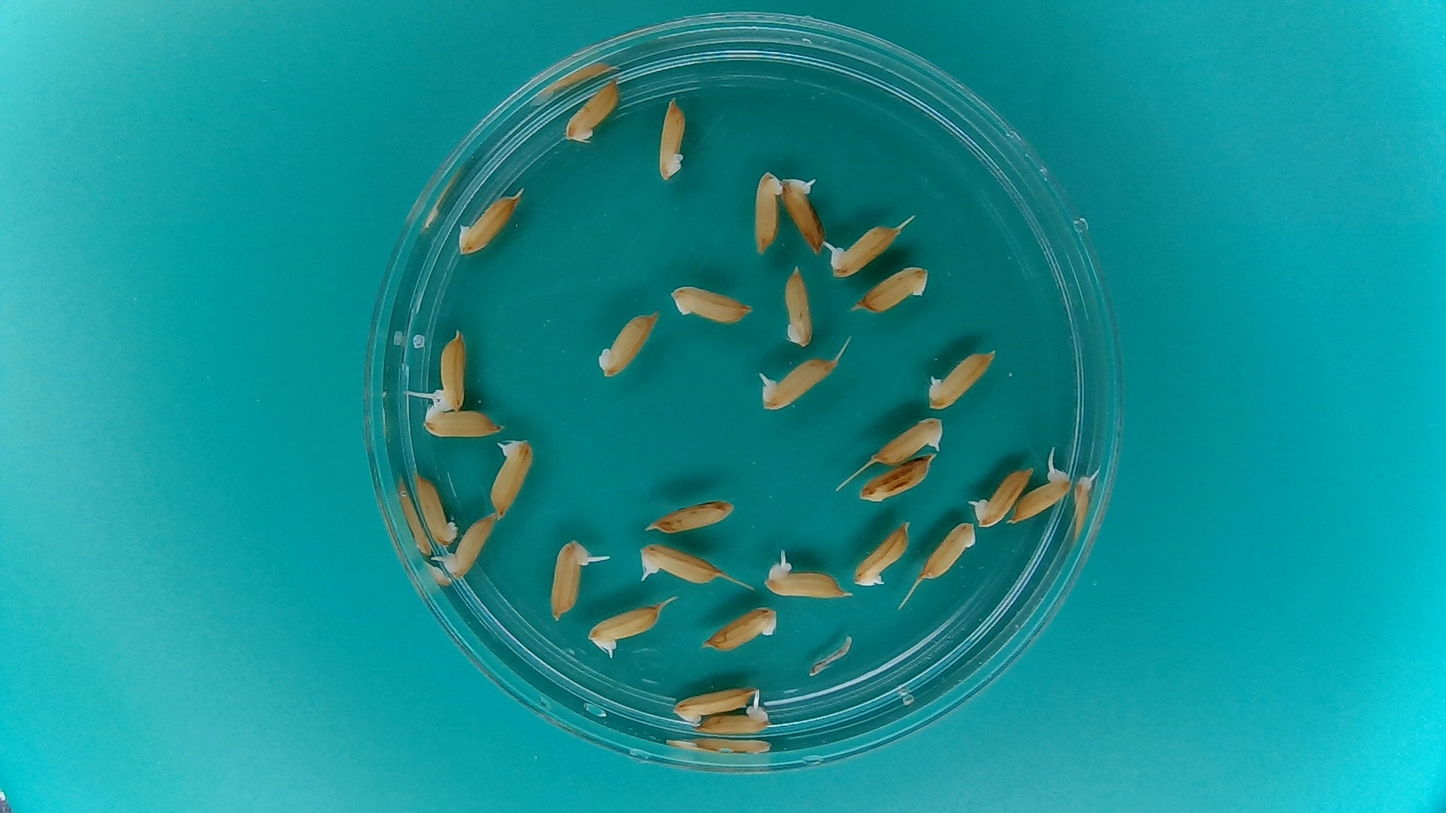no: (593, 304, 663, 381), (455, 189, 526, 256), (926, 350, 998, 413), (642, 492, 739, 537), (562, 75, 625, 144), (670, 681, 764, 726), (852, 521, 911, 592), (667, 280, 757, 326), (410, 467, 459, 546), (746, 163, 786, 257), (857, 455, 935, 502), (856, 265, 932, 313), (704, 606, 779, 654), (779, 260, 818, 351), (654, 91, 690, 185), (920, 521, 978, 579), (418, 403, 505, 440)
yes: (485, 438, 537, 519), (829, 221, 899, 281), (759, 358, 836, 411), (438, 513, 498, 580), (634, 543, 719, 590), (548, 542, 596, 622), (779, 176, 827, 255), (589, 601, 665, 650), (972, 464, 1031, 527), (765, 563, 852, 604), (1008, 472, 1075, 525), (873, 414, 942, 464), (432, 340, 468, 412), (694, 705, 767, 736)
